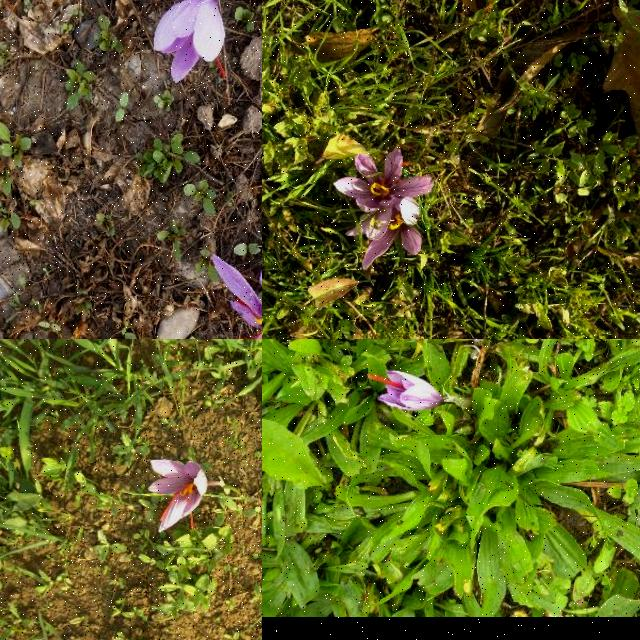flower: (152, 0, 227, 82), (211, 254, 262, 339), (149, 459, 207, 533), (368, 372, 440, 410)
overlap: (332, 149, 433, 271)
